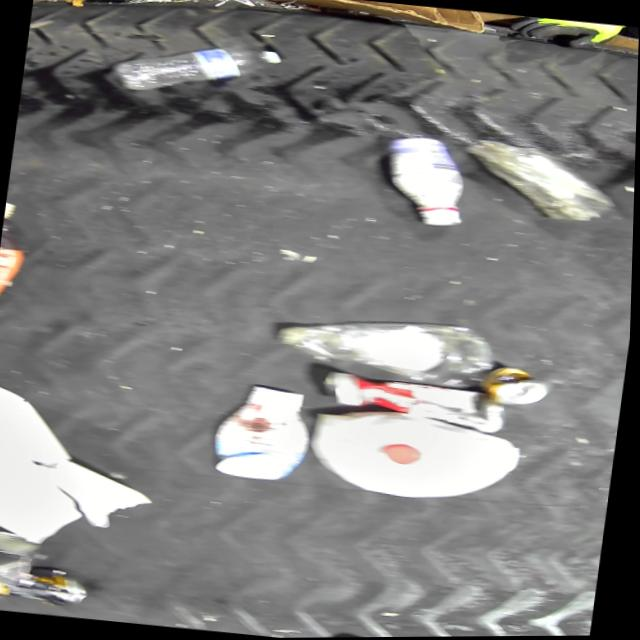can: (0, 558, 95, 610), (475, 360, 556, 411), (0, 527, 46, 590)
milk_jug: (302, 401, 533, 510)
plastic_bottle: (266, 303, 502, 397), (104, 32, 286, 107), (30, 0, 88, 18)
